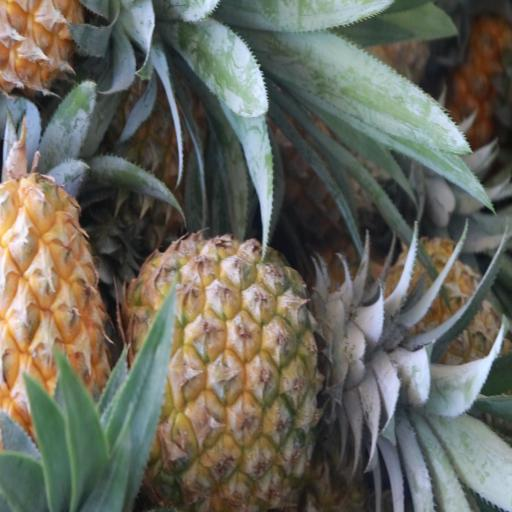Pineapple - v8 v1: (130, 233, 338, 512), (0, 170, 108, 487)
